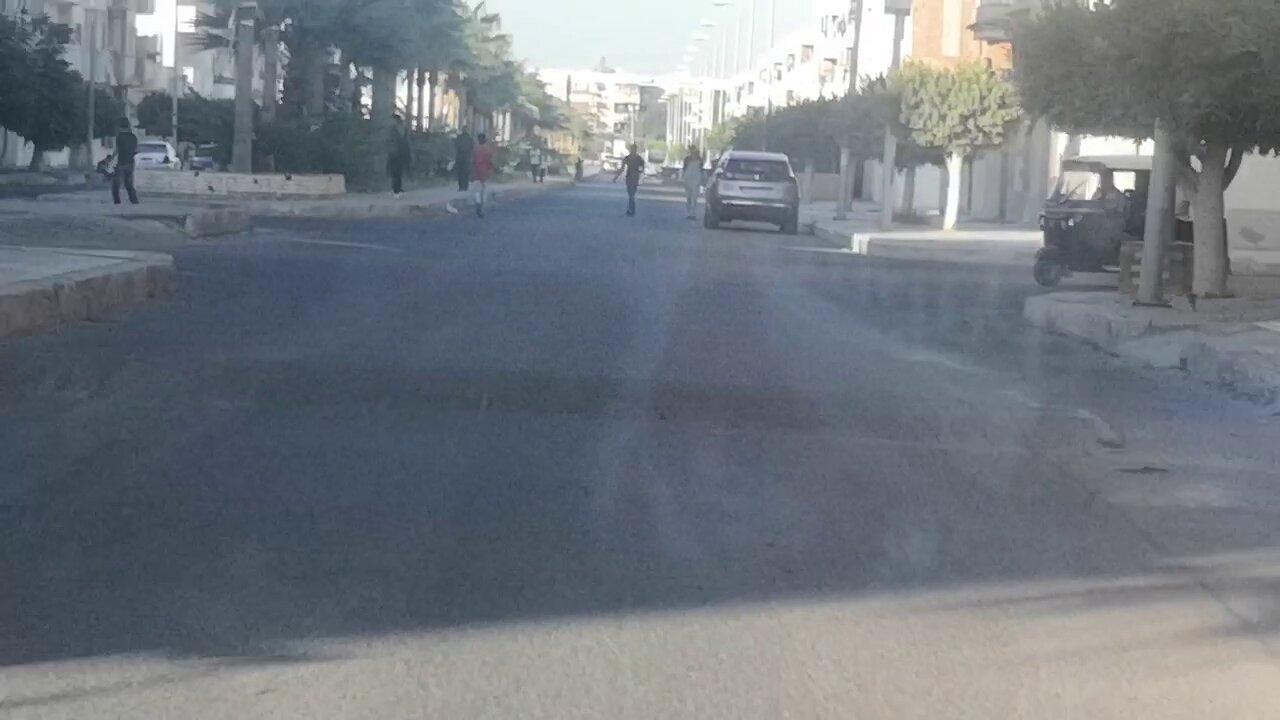Bump: (48, 342, 1098, 468)
